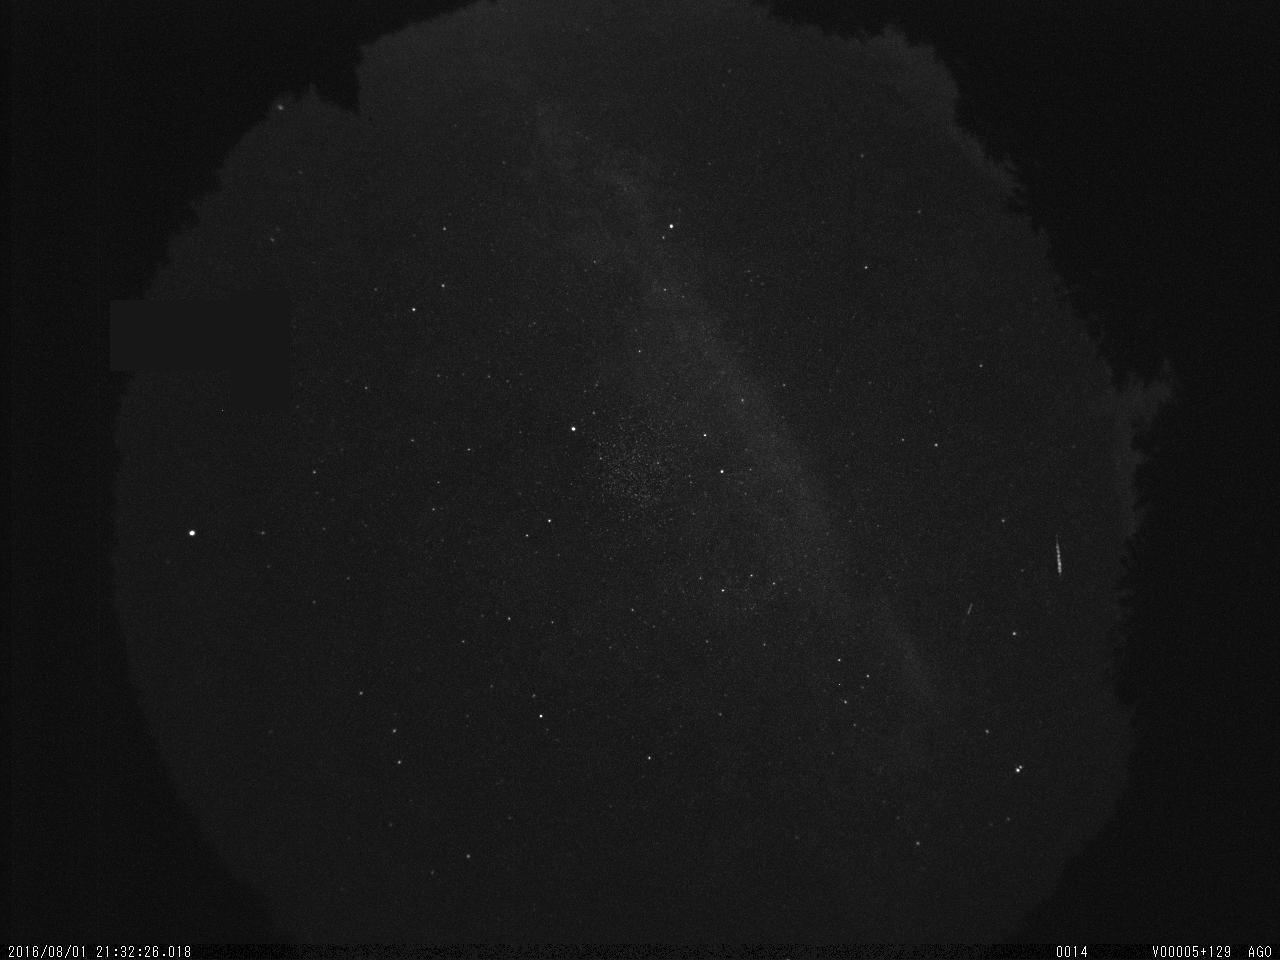Meteor: (1047, 531, 1067, 587)
